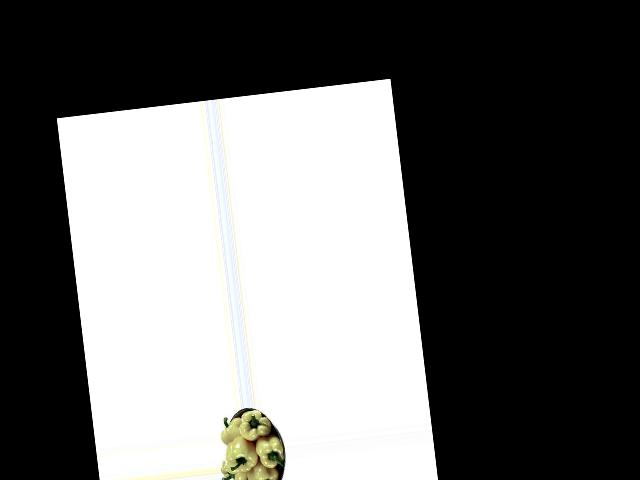bell_pepper: (220, 457, 251, 480)
